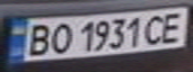1: (75, 18, 96, 52), (124, 15, 145, 47)
3: (109, 16, 130, 50)
9: (90, 17, 112, 52)
B: (21, 21, 54, 57)
C: (139, 11, 172, 46)
E: (157, 9, 190, 44)
O: (45, 20, 75, 55)
